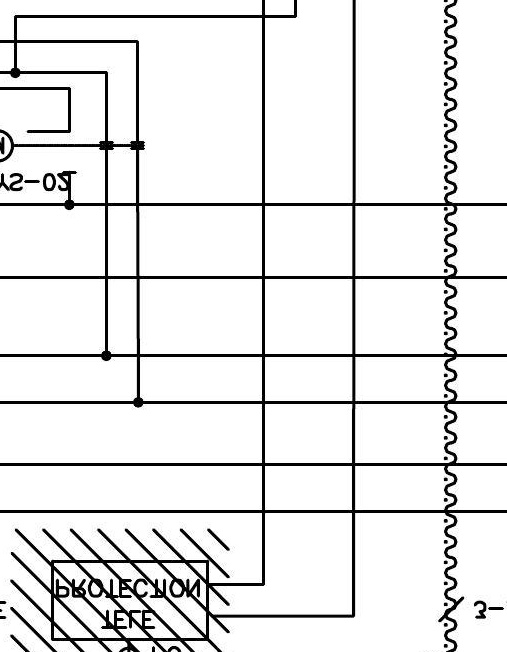tele_protection: (48, 557, 212, 644)
